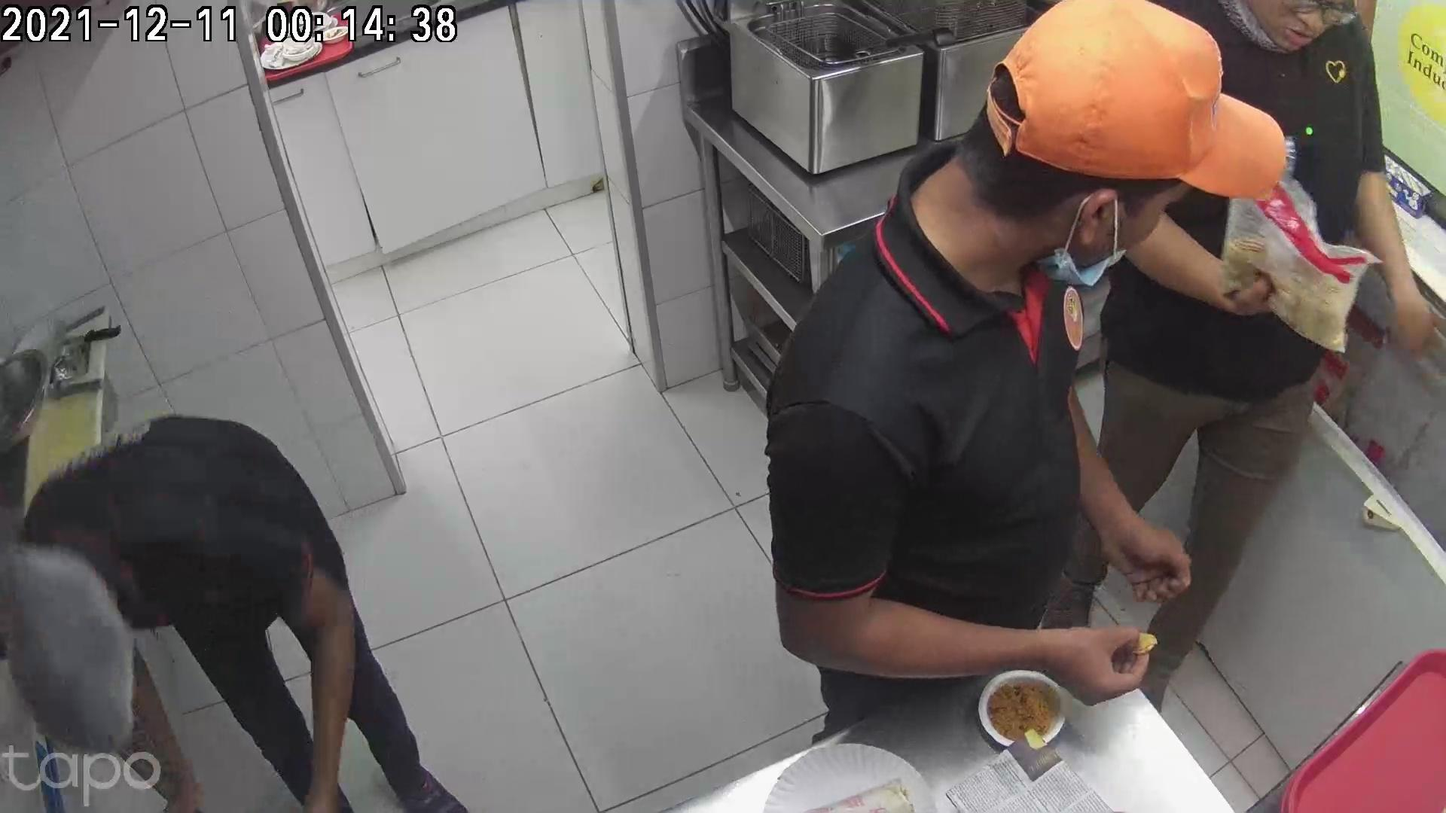gloves: (884, 622, 992, 749)
no_gloves: (1032, 590, 1115, 718)
